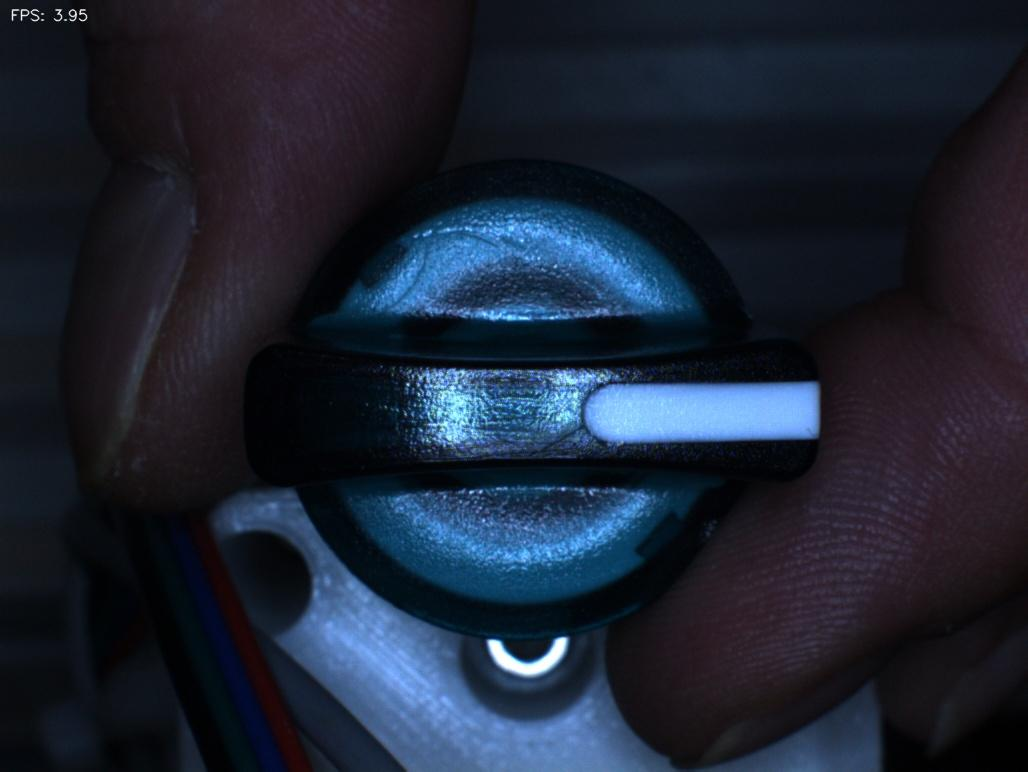Choc: (669, 488, 742, 561)
